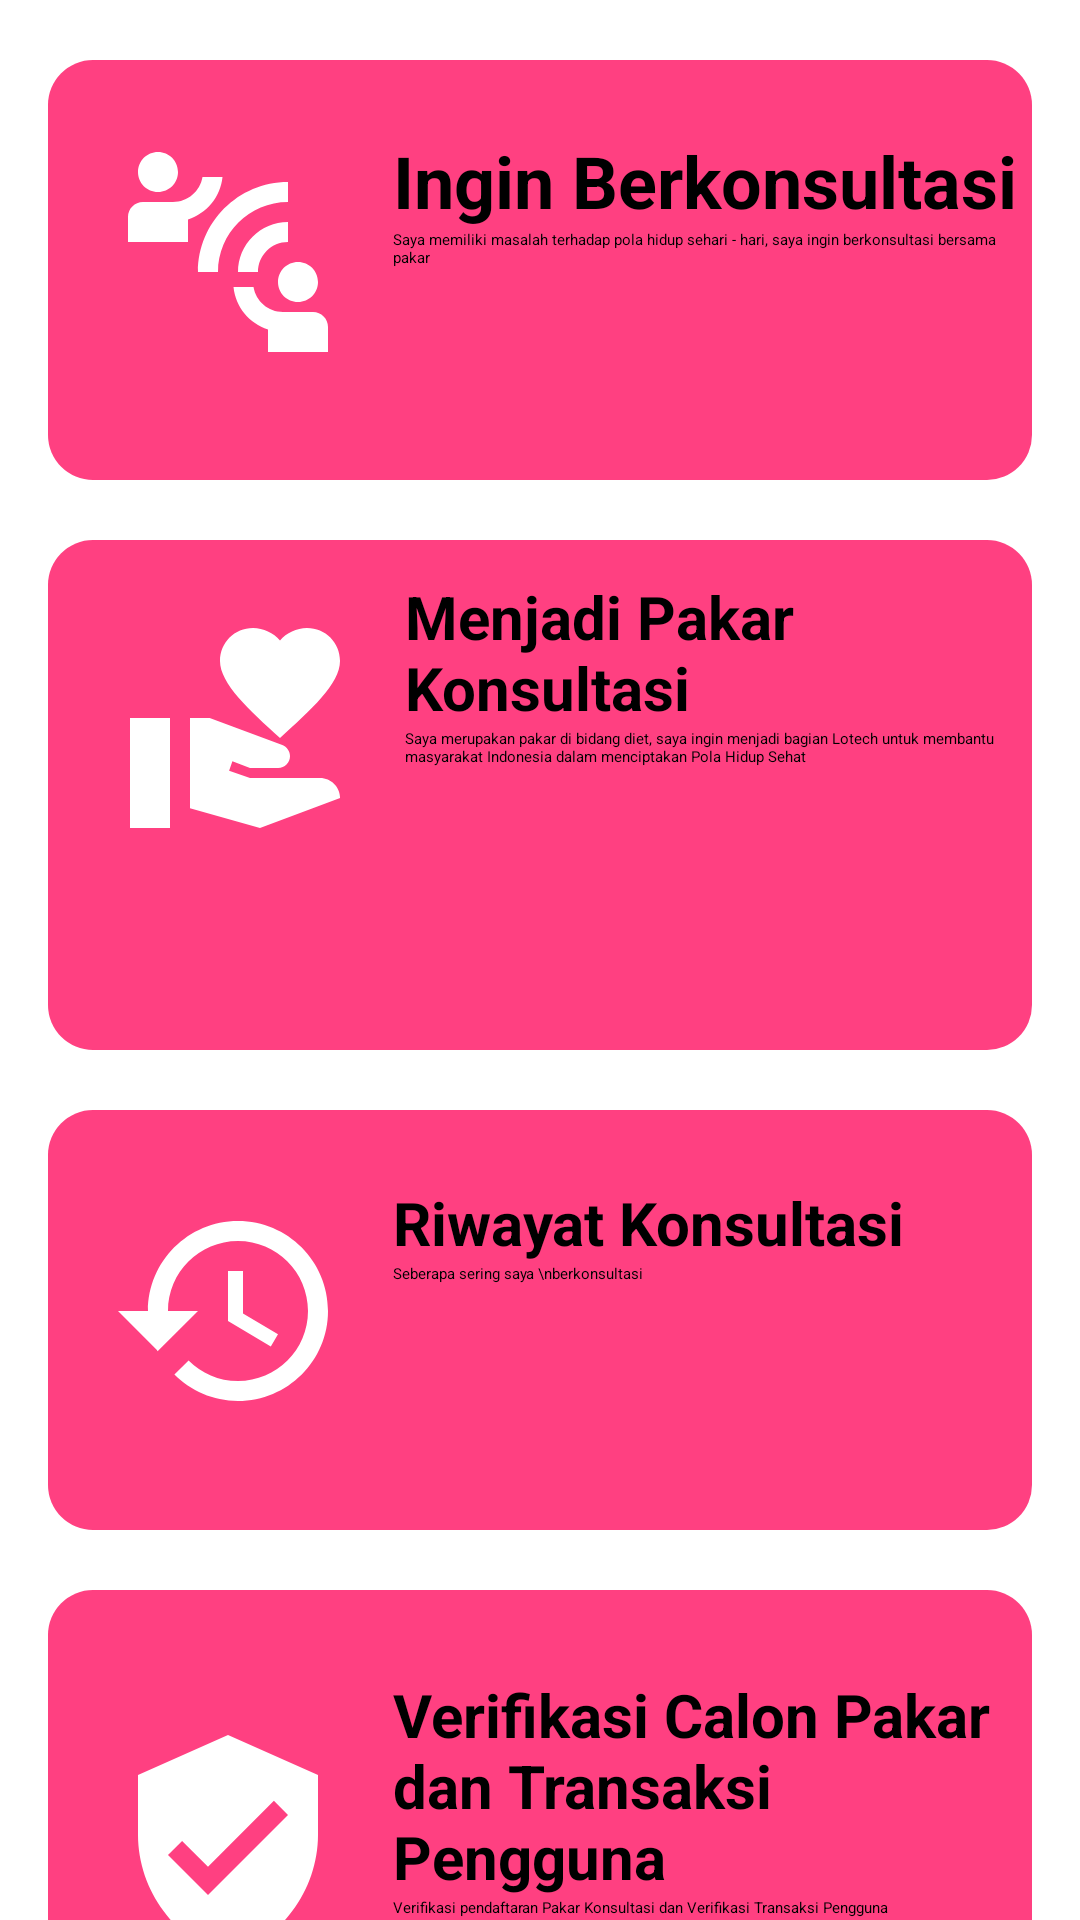

Point at icon controls on the screen. Image size 1080px x 1920px, points as (x=x, y=y).
connect without contact: (x=228, y=252)
history: (x=223, y=1311)
volunteer activism: (x=235, y=728)
